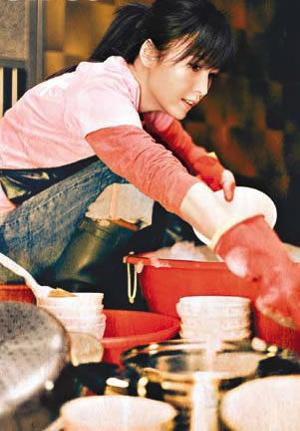person: (1, 1, 300, 335)
